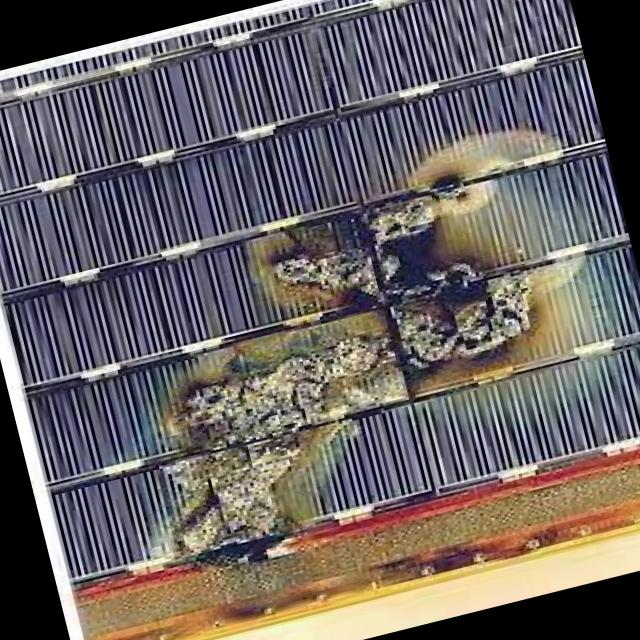faulty: (39, 85, 626, 554)
